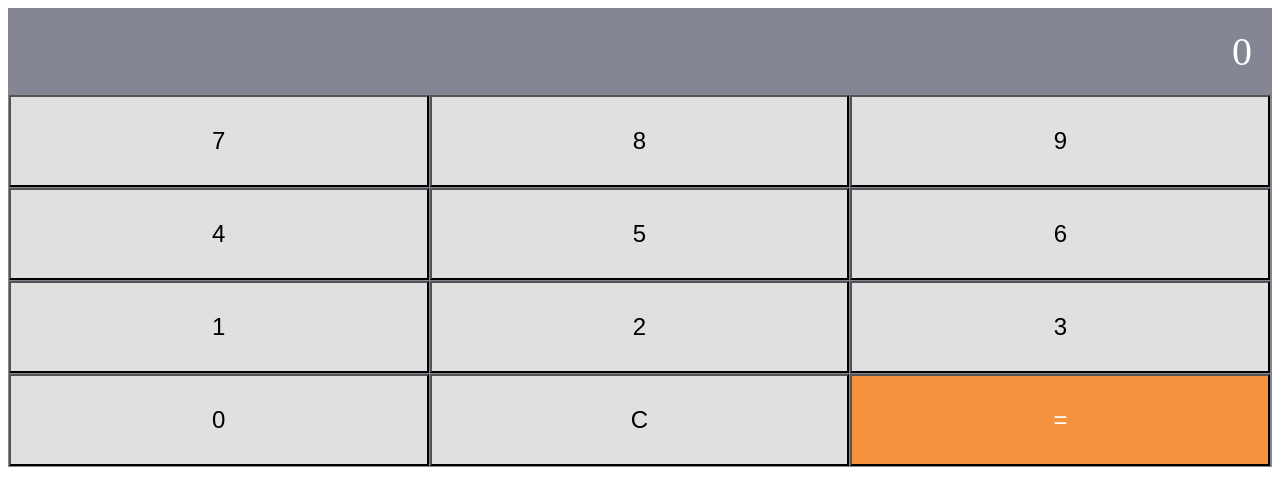
should re-input number after calculate result
Click the button "1" at (219, 327), box x1=9 y1=281 x2=428 y2=373
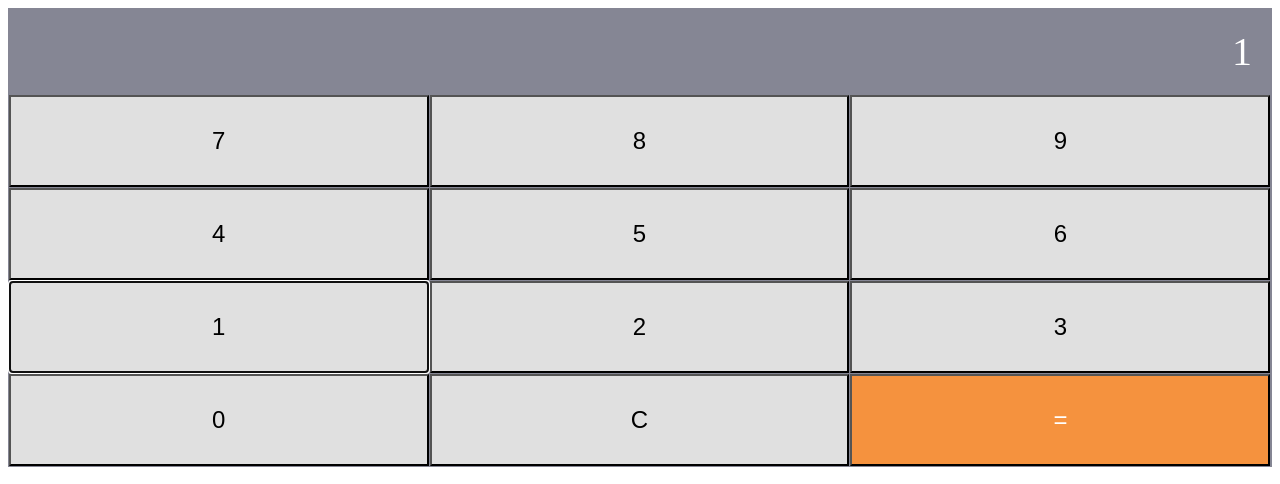
Click the button "5" at (639, 234), box x1=430 y1=188 x2=849 y2=280
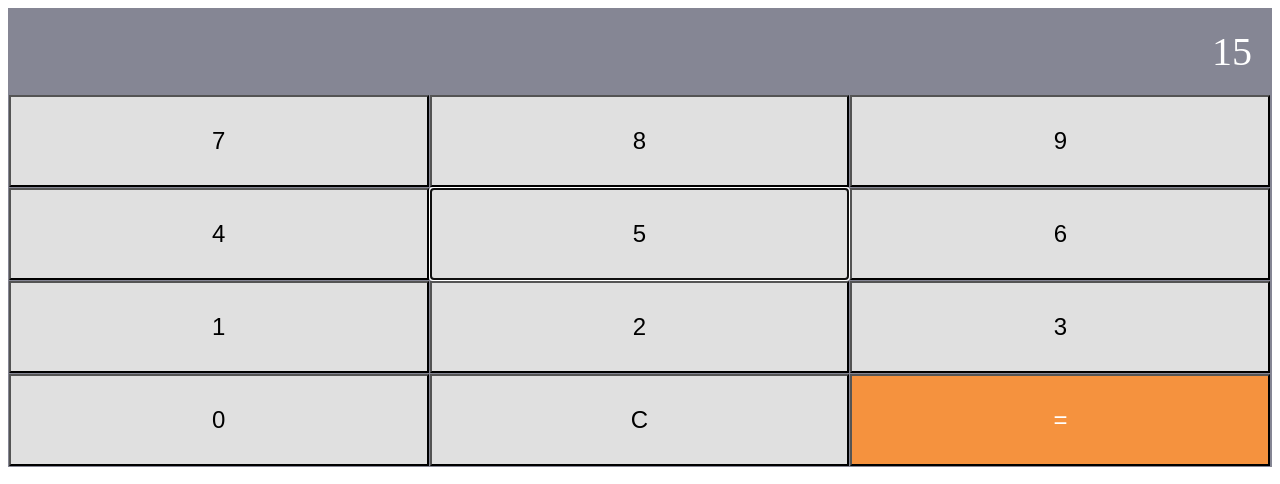
Click the button "=" at (1060, 420), box x1=850 y1=374 x2=1270 y2=466
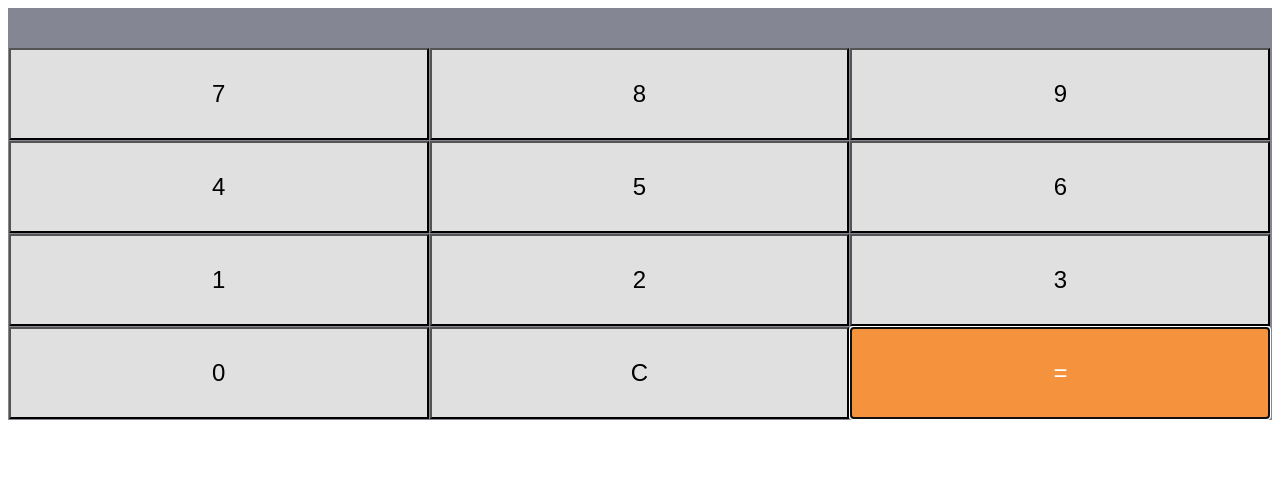
Click the button "3" at (1060, 280), box x1=850 y1=234 x2=1270 y2=326
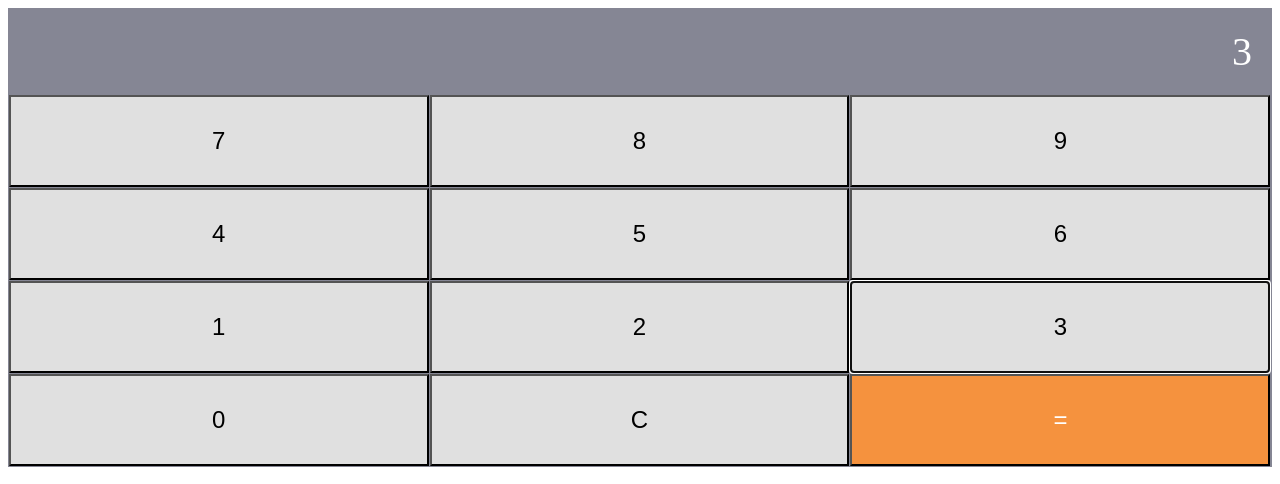
Expected: the text with test id "result" reads "3", x1=1232 y1=29 x2=1252 y2=74
